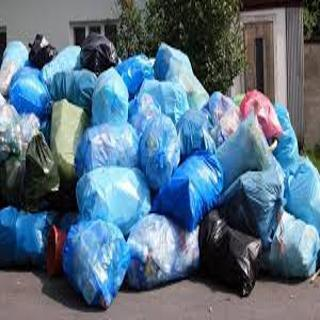Garbage: (57, 219, 137, 311), (198, 208, 265, 296), (210, 167, 285, 245), (152, 151, 226, 227), (71, 164, 154, 230), (17, 128, 70, 211), (76, 118, 139, 176), (138, 112, 185, 189), (0, 205, 54, 268), (276, 156, 319, 234), (5, 62, 59, 115), (197, 86, 244, 143), (152, 40, 197, 93), (240, 90, 282, 137), (91, 69, 128, 122), (74, 30, 118, 71)
